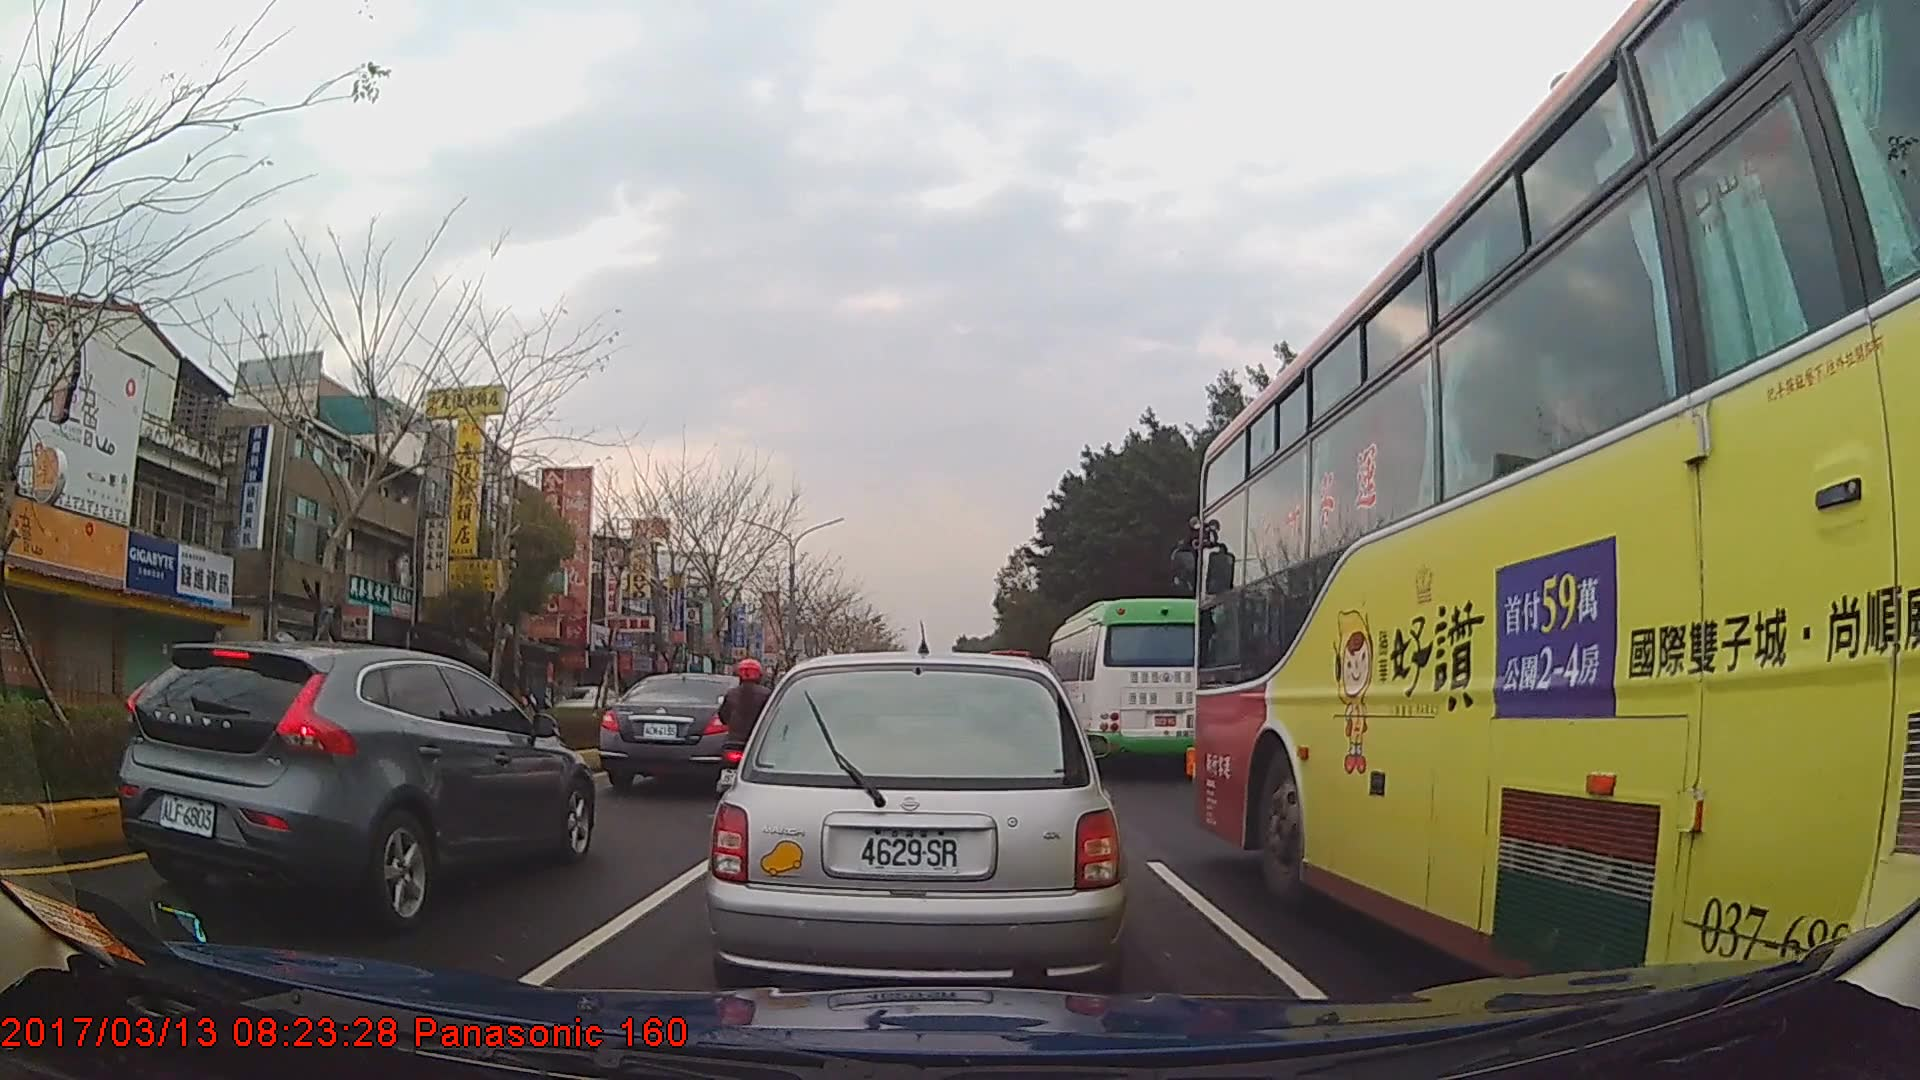rider: (717, 657, 787, 816)
vehicle: (1196, 0, 1920, 1017), (704, 649, 1128, 989), (112, 639, 593, 930), (1049, 597, 1211, 776), (599, 671, 766, 794), (554, 683, 622, 722)
